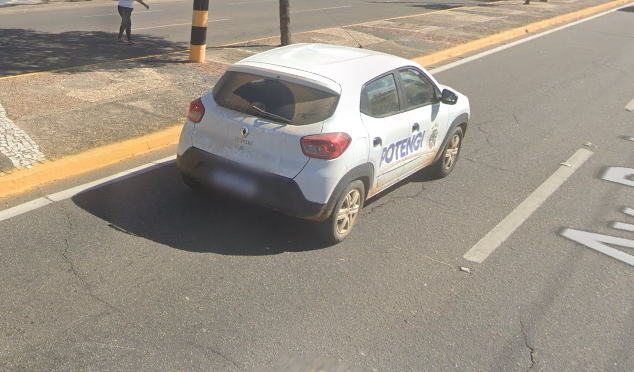car: (177, 8, 470, 246)
